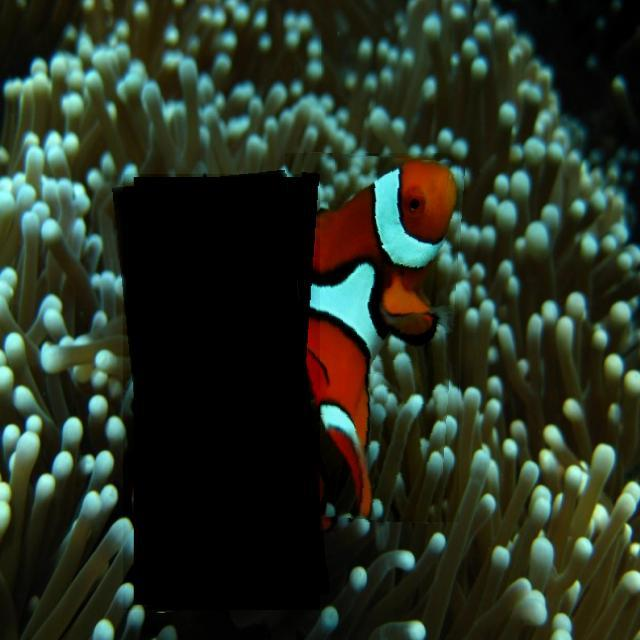ClownFish: (306, 153, 460, 514)
